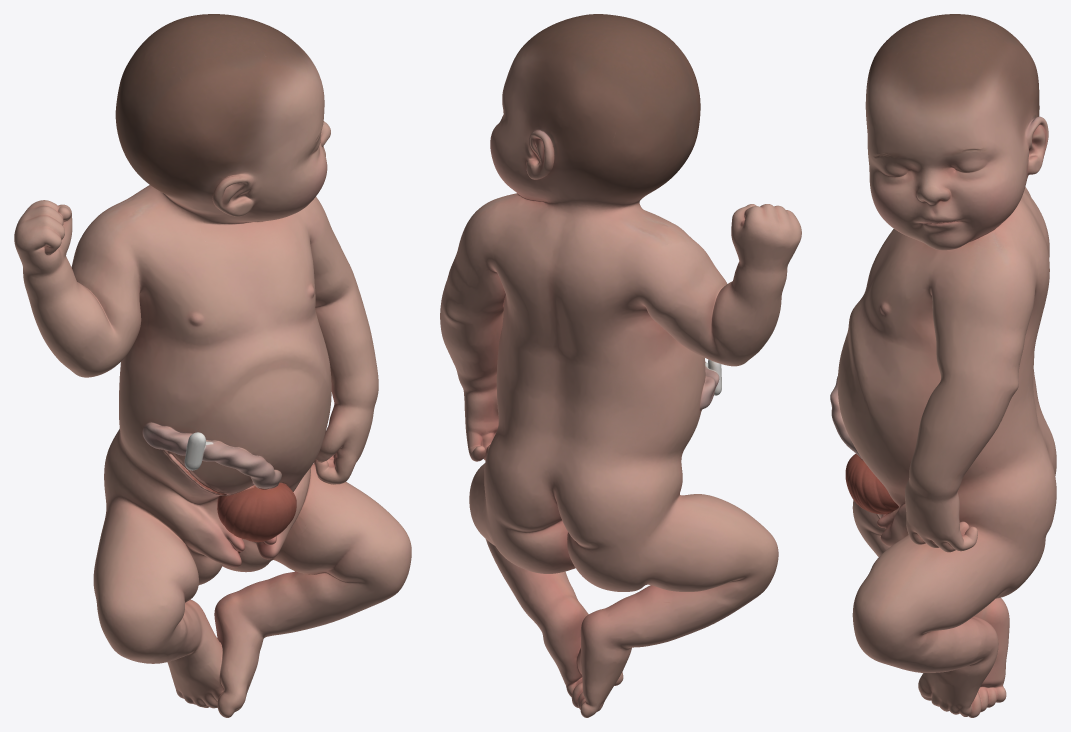
The model's file is Meshy_AI_quita_a_esta_flechas_0915092324_texture-v1.glb.
3 views of the same model, side by side, from view 1: azimuth 30°, elevation 25°; view 2: azimuth 150°, elevation 25°; view 3: azimuth 270°, elevation 25° (orthographic). The views are drawn at different scales.
Size of the model in its own units: 1.03 by 1.9 by 0.5698.
Materials: 1 (1 with a texture image).
